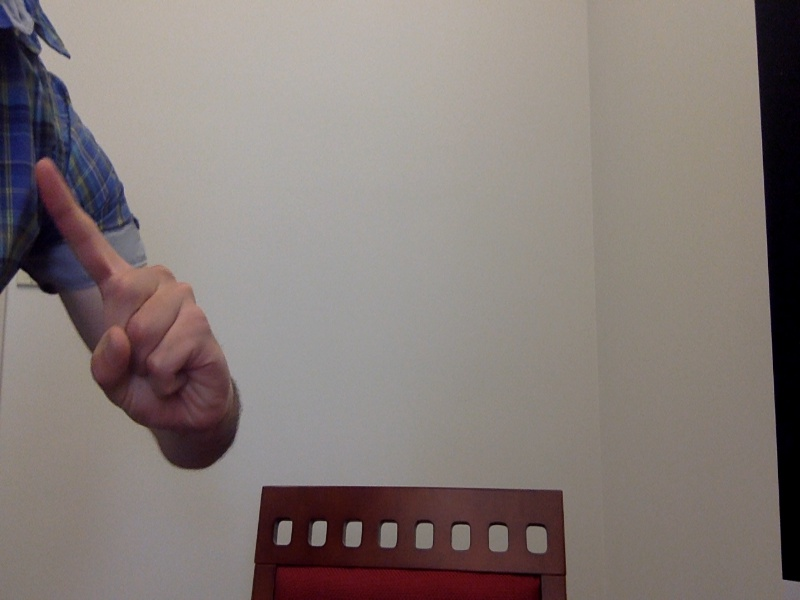1-hand: (31, 156, 232, 450)
